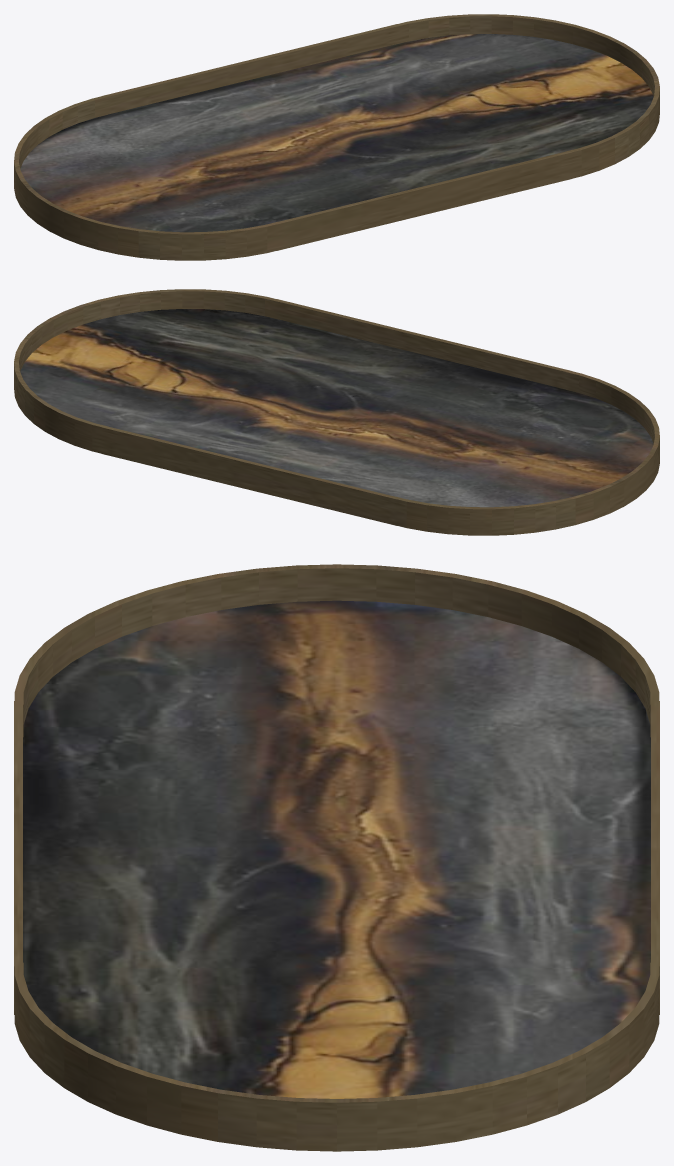
The model's file is Bronze_OrganicGlassyTray-Oblong.glb.
3 renders of one model, top to bottom at view 1: azimuth 30°, elevation 25°; view 2: azimuth 150°, elevation 25°; view 3: azimuth 270°, elevation 25°, orthographic. The views are drawn at different scales.
Visible parts, largest first — view 1: model; view 2: model; view 3: model.
Part boxes in pixels (x1,y1,x2,y2): model: (14,14,659,260); model: (14,289,659,535); model: (14,564,659,1151).
Size of the model in its own units: 0.71 by 0.03 by 0.36.
2 materials, 2 textured.
